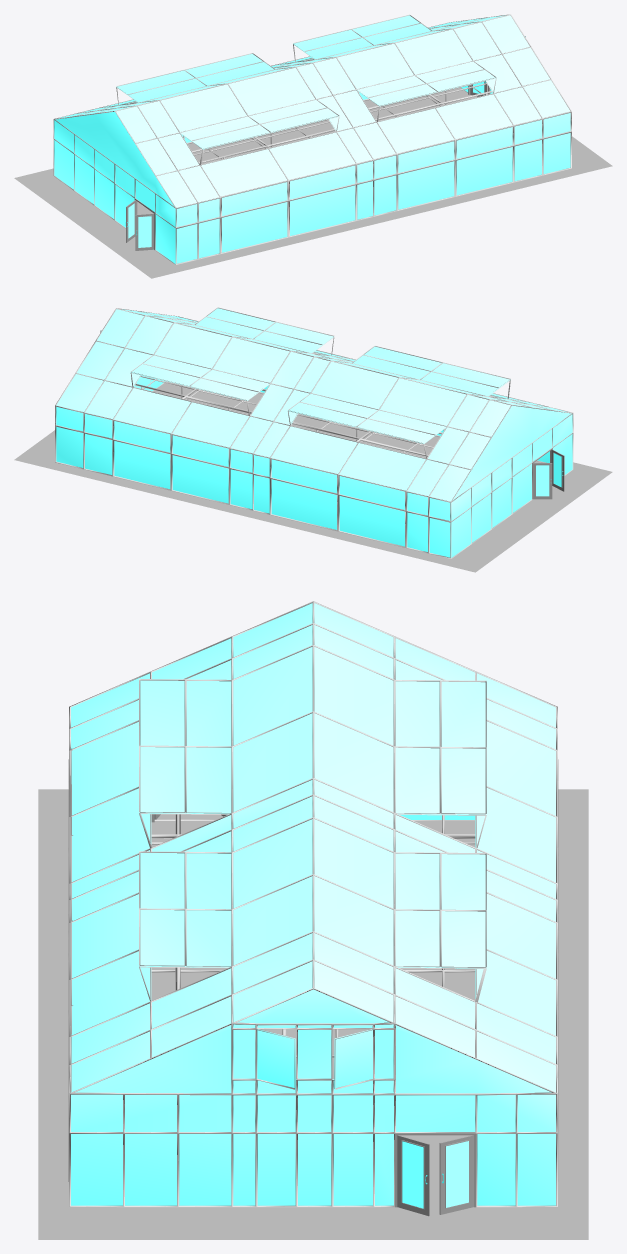
Rendered from Structure.dae.
3 renders of one model, top to bottom at view 1: azimuth 30°, elevation 25°; view 2: azimuth 150°, elevation 25°; view 3: azimuth 270°, elevation 25°, orthographic. The views are drawn at different scales.
Parts seen in each view (by area): view 1: GreenHouse, FrameGrid, Plane, Grid.002, Door.007, Door.005; view 2: GreenHouse, FrameGrid, Plane, Grid.002, Door.006; view 3: GreenHouse, Plane, FrameGrid, Grid.002, Door.003, Door.002, Door, Door.001.
Boxes of the visible parts, left/top/right/bottom form: GreenHouse: left=54, top=15, right=570, bottom=263; FrameGrid: left=53, top=14, right=571, bottom=264; Plane: left=14, top=84, right=612, bottom=278; Grid.002: left=130, top=59, right=569, bottom=197; Door.007: left=138, top=216, right=151, bottom=247; Door.005: left=135, top=213, right=154, bottom=250; GreenHouse: left=56, top=308, right=572, bottom=557; FrameGrid: left=55, top=307, right=573, bottom=558; Plane: left=14, top=381, right=612, bottom=572; Grid.002: left=135, top=316, right=530, bottom=458; Door.006: left=536, top=465, right=549, bottom=496; GreenHouse: left=71, top=603, right=555, bottom=1205; Plane: left=38, top=789, right=588, bottom=1239; FrameGrid: left=68, top=601, right=558, bottom=1207; Grid.002: left=70, top=747, right=475, bottom=1091; Door.003: left=446, top=1141, right=468, bottom=1207; Door.002: left=402, top=1141, right=423, bottom=1208; Door: left=397, top=1135, right=429, bottom=1216; Door.001: left=439, top=1135, right=473, bottom=1214.
Size of the model in its own units: 24.54 by 12.67 by 5.64.
